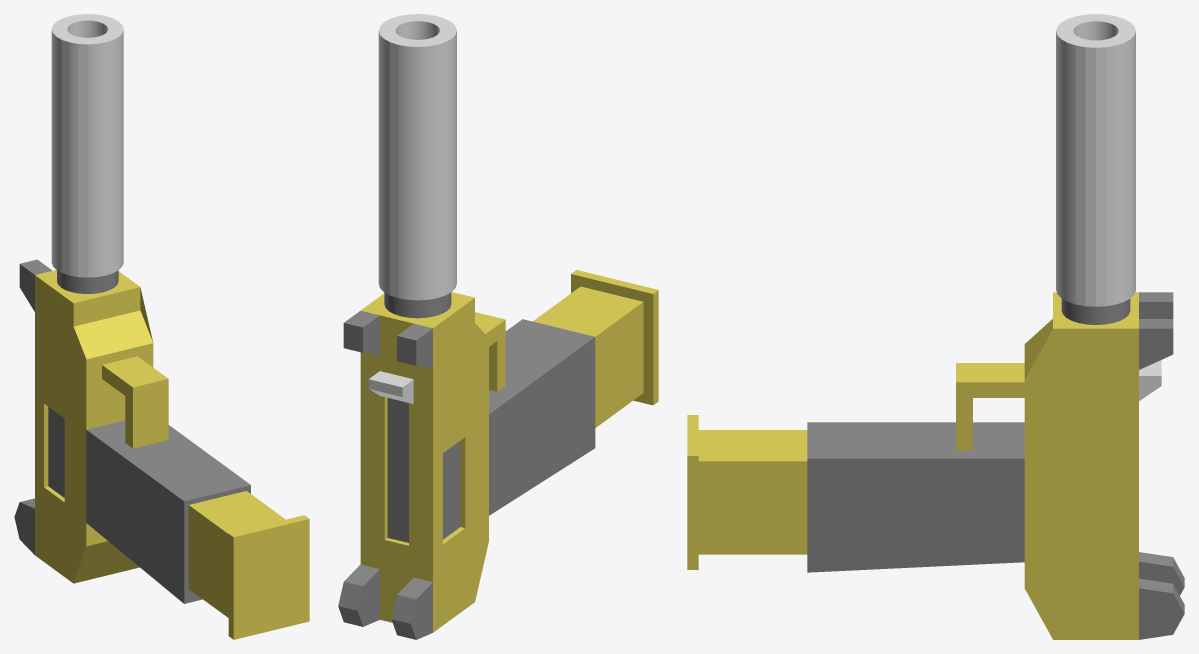
File: uzigoldsilencer.fbx
3 views of the same model, side by side, from view 1: azimuth 30°, elevation 25°; view 2: azimuth 150°, elevation 25°; view 3: azimuth 270°, elevation 25° (orthographic). The views are drawn at different scales.
Parts seen in each view (by area): view 1: imagetostl_mesh19, imagetostl_mesh15, imagetostl_mesh9, imagetostl_mesh70, imagetostl_mesh55, imagetostl_mesh288, imagetostl_mesh289, imagetostl_mesh257, imagetostl_mesh10, imagetostl_mesh22, imagetostl_mesh64, imagetostl_mesh35 (+31 smaller); view 2: imagetostl_mesh19, imagetostl_mesh9, imagetostl_mesh130, imagetostl_mesh10, imagetostl_mesh371, imagetostl_mesh375, imagetostl_mesh125, imagetostl_mesh35, imagetostl_mesh73, imagetostl_mesh381, imagetostl_mesh370, imagetostl_mesh56 (+43 smaller); view 3: imagetostl_mesh52, imagetostl_mesh24, imagetostl_mesh1, imagetostl_mesh10, imagetostl_mesh303, imagetostl_mesh312, imagetostl_mesh22, imagetostl_mesh293, imagetostl_mesh318, imagetostl_mesh267, imagetostl_mesh326, imagetostl_mesh63 (+14 smaller).
Boxes of the visible parts, x1=… form: imagetostl_mesh19: x1=86, y1=430, x2=184, y2=603; imagetostl_mesh15: x1=233, y1=519, x2=309, y2=639; imagetostl_mesh9: x1=188, y1=505, x2=228, y2=617; imagetostl_mesh70: x1=74, y1=310, x2=152, y2=359; imagetostl_mesh55: x1=44, y1=343, x2=151, y2=429; imagetostl_mesh288: x1=87, y1=44, x2=96, y2=277; imagetostl_mesh289: x1=78, y1=44, x2=87, y2=277; imagetostl_mesh257: x1=69, y1=42, x2=78, y2=276; imagetostl_mesh10: x1=189, y1=491, x2=285, y2=533; imagetostl_mesh22: x1=168, y1=440, x2=250, y2=501; imagetostl_mesh64: x1=133, y1=379, x2=168, y2=448; imagetostl_mesh35: x1=35, y1=313, x2=86, y2=402; imagetostl_mesh19: x1=489, y1=337, x2=595, y2=515; imagetostl_mesh9: x1=595, y1=302, x2=643, y2=427; imagetostl_mesh130: x1=387, y1=398, x2=408, y2=542; imagetostl_mesh10: x1=533, y1=277, x2=643, y2=336; imagetostl_mesh371: x1=417, y1=46, x2=427, y2=300; imagetostl_mesh375: x1=407, y1=46, x2=417, y2=300; imagetostl_mesh125: x1=380, y1=319, x2=410, y2=622; imagetostl_mesh35: x1=433, y1=338, x2=488, y2=452; imagetostl_mesh73: x1=433, y1=541, x2=488, y2=632; imagetostl_mesh381: x1=398, y1=45, x2=407, y2=299; imagetostl_mesh370: x1=428, y1=45, x2=437, y2=299; imagetostl_mesh56: x1=445, y1=415, x2=488, y2=527; imagetostl_mesh52: x1=1024, y1=328, x2=1138, y2=639; imagetostl_mesh24: x1=807, y1=458, x2=1024, y2=572; imagetostl_mesh1: x1=698, y1=461, x2=807, y2=554; imagetostl_mesh10: x1=698, y1=430, x2=807, y2=461; imagetostl_mesh303: x1=1085, y1=47, x2=1095, y2=306; imagetostl_mesh312: x1=1096, y1=47, x2=1106, y2=306; imagetostl_mesh22: x1=807, y1=422, x2=955, y2=458; imagetostl_mesh293: x1=1076, y1=45, x2=1085, y2=305; imagetostl_mesh318: x1=1106, y1=45, x2=1115, y2=305; imagetostl_mesh267: x1=1067, y1=43, x2=1075, y2=304; imagetostl_mesh326: x1=1116, y1=43, x2=1124, y2=304; imagetostl_mesh63: x1=956, y1=382, x2=1024, y2=450.
Size of what is drawn, in the model's own units: 1.02 by 6.85 by 5.22.
